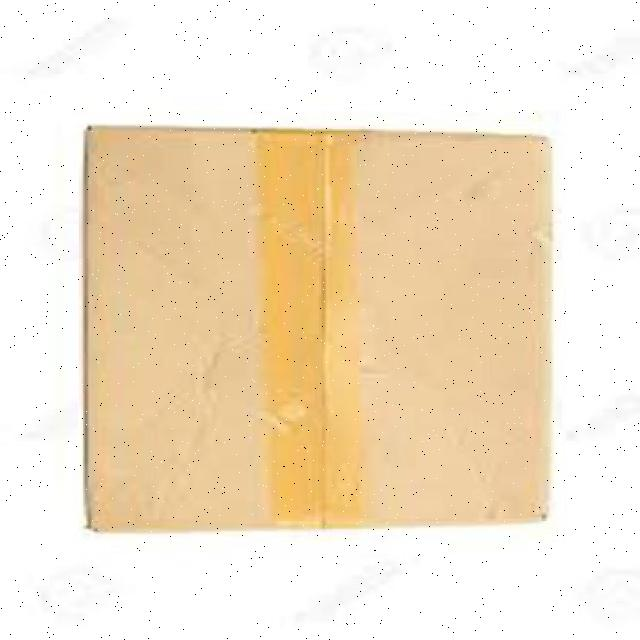normal: (78, 123, 562, 540)
